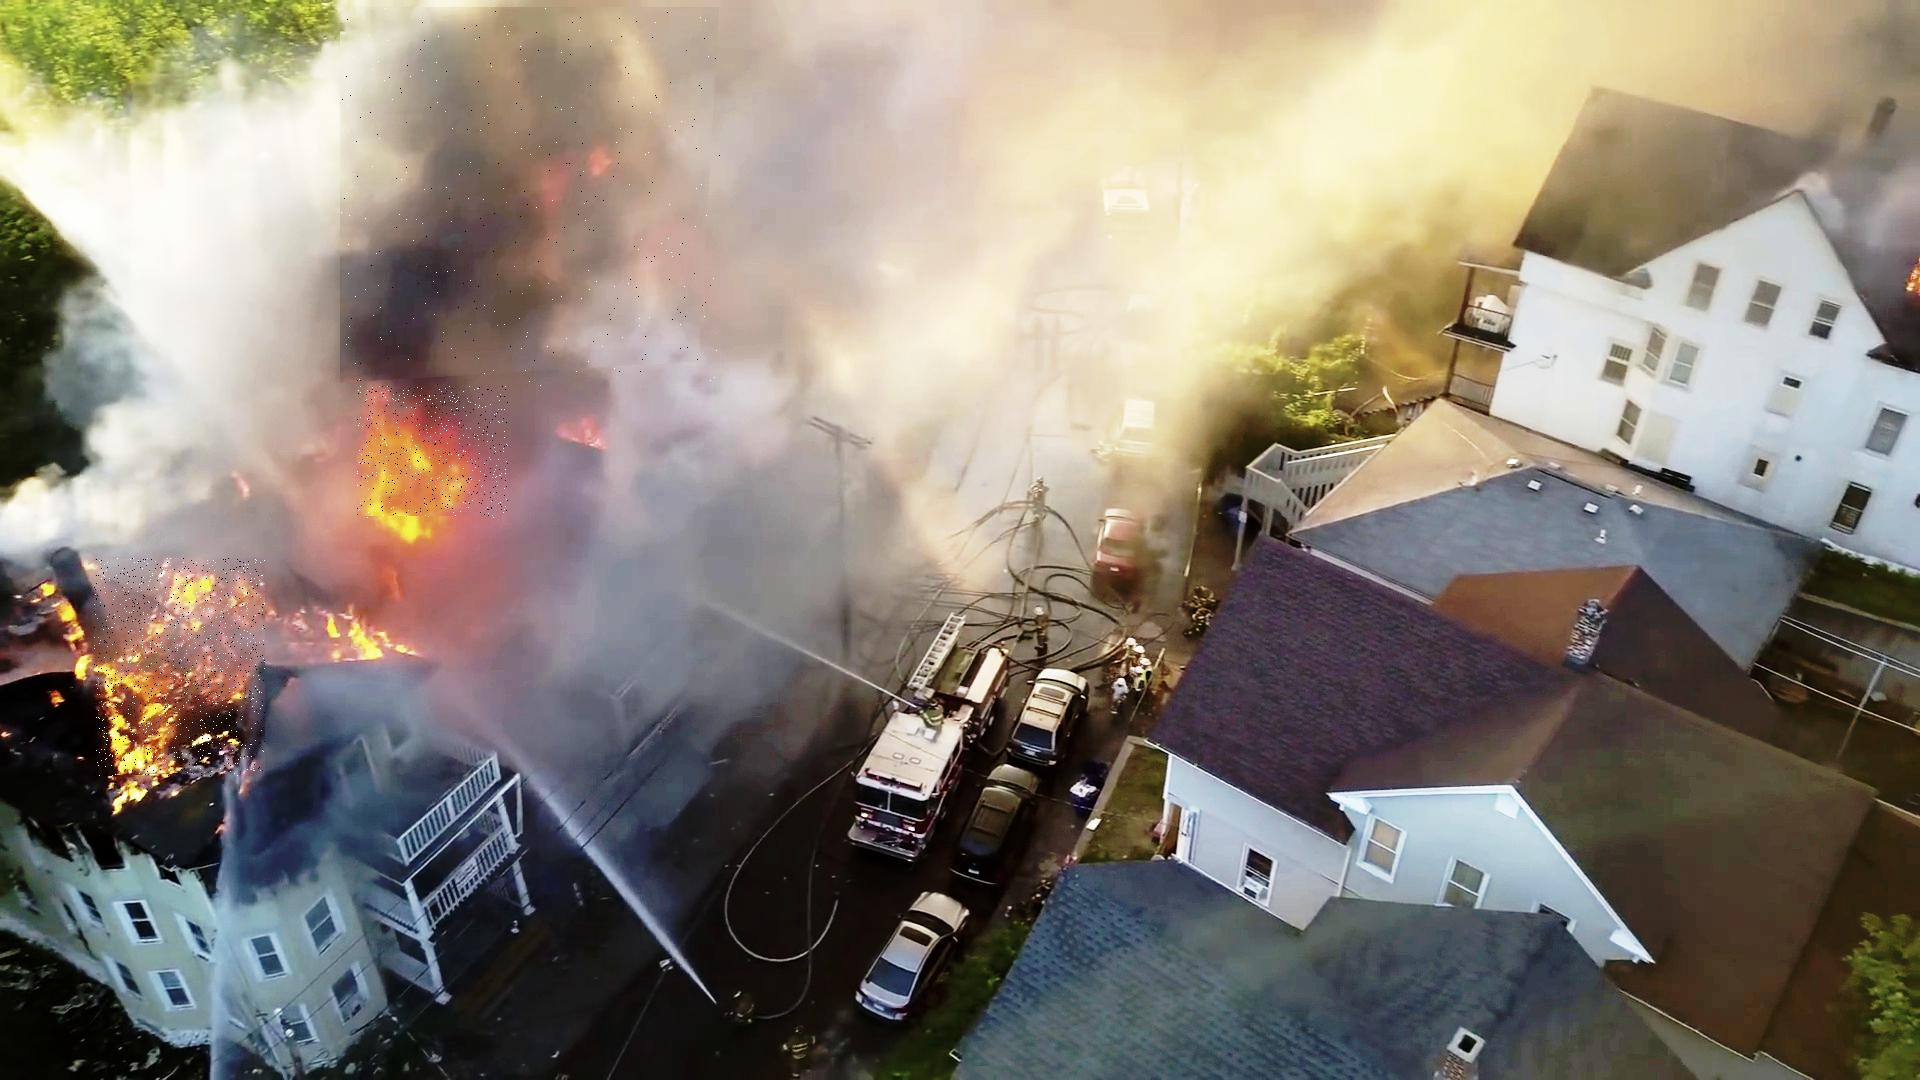fire: (95, 558, 265, 777), (357, 365, 508, 518)
smoke: (340, 8, 721, 386)
